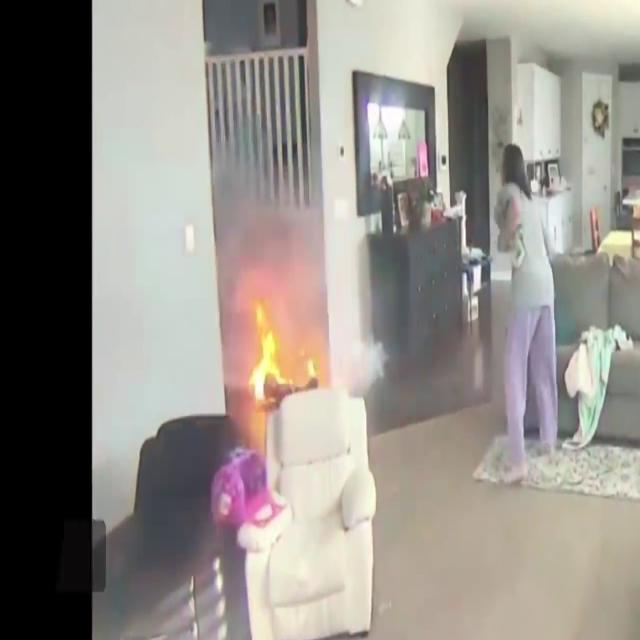Fire: (242, 288, 324, 406)
Smoke: (208, 142, 318, 312)
